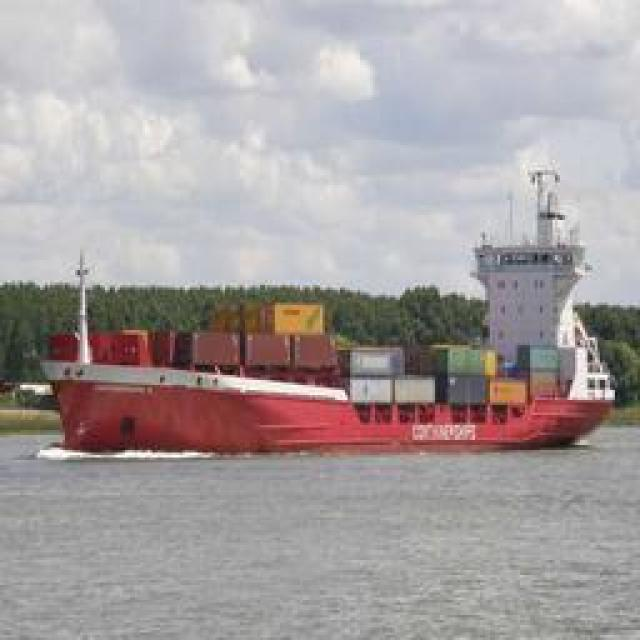CIV_Ship: (29, 255, 609, 460)
